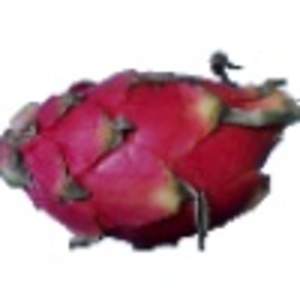pitaia: (1, 50, 300, 252)
